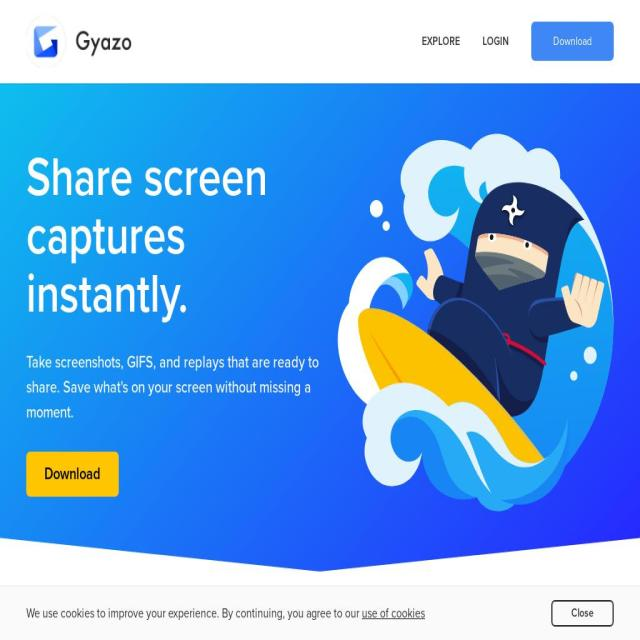button: (27, 15, 152, 67), (26, 451, 119, 497), (531, 21, 614, 60), (411, 20, 471, 62), (471, 20, 520, 62), (550, 600, 614, 627)
heading: (26, 148, 338, 324)
image: (338, 133, 614, 512), (27, 15, 152, 67)
link: (362, 605, 425, 622)
text: (26, 349, 338, 425), (26, 605, 362, 622), (553, 34, 592, 48), (422, 34, 460, 48), (482, 34, 508, 48)
